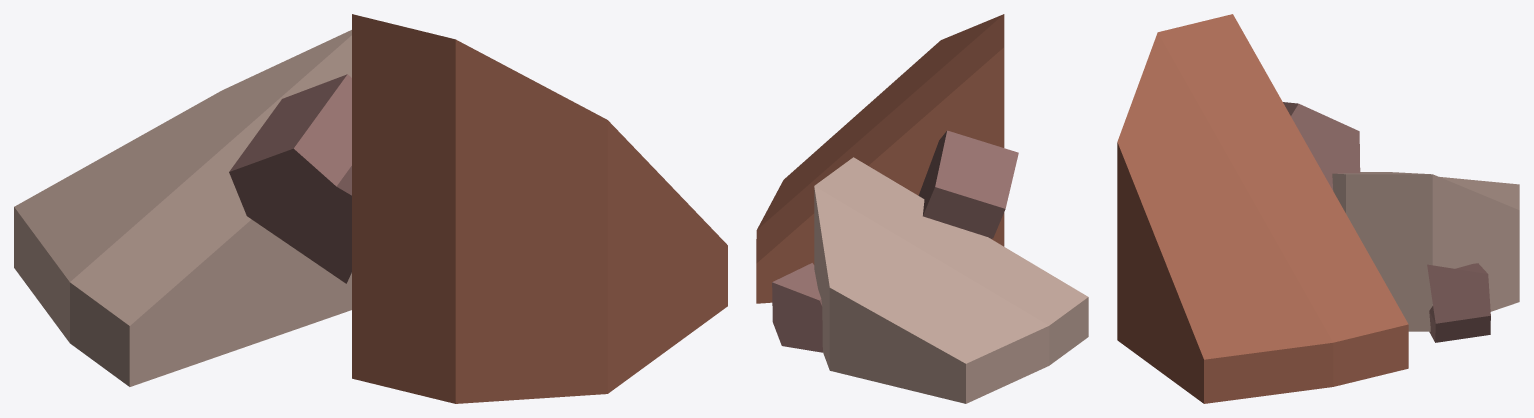
The model's file is rock-type5-03-orange.glb.
3 renders of one model, left to right at view 1: azimuth 30°, elevation 25°; view 2: azimuth 150°, elevation 25°; view 3: azimuth 270°, elevation 25°, orthographic. The views are drawn at different scales.
Visible parts, largest first — view 1: Rock_Type5_03_mesh; view 2: Rock_Type5_03_mesh; view 3: Rock_Type5_03_mesh.
Part boxes in pixels (box(x1,y1,x2,y2)): Rock_Type5_03_mesh: box(14, 14, 727, 403); Rock_Type5_03_mesh: box(756, 14, 1088, 403); Rock_Type5_03_mesh: box(1117, 14, 1519, 403).
Size of the model in its own units: 2.17 by 1.44 by 1.96.
Materials: 1 (1 with a texture image).
